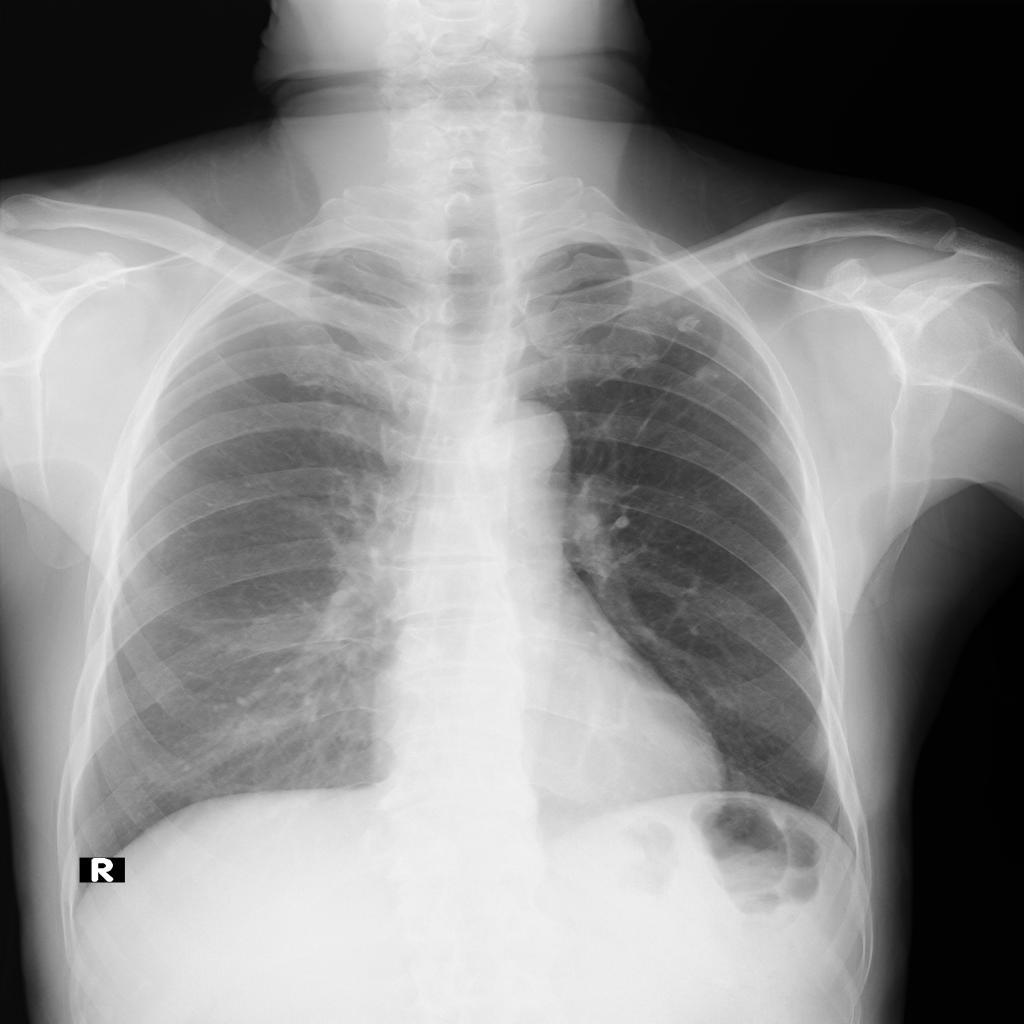Nodule: (674, 311, 703, 334), (694, 363, 720, 381)
